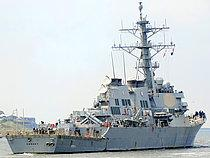MIL_Ship: (7, 13, 206, 153)
